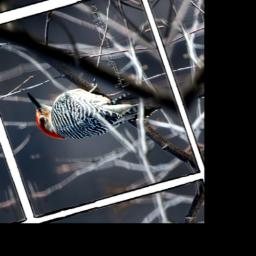Woodpecker: (19, 62, 148, 156)
